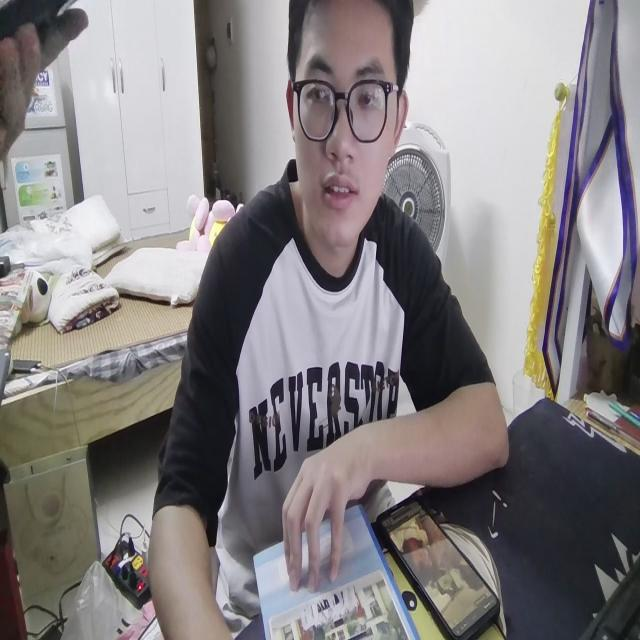book: (248, 499, 388, 640)
phone: (376, 486, 500, 640)
student: (148, 0, 505, 640)
